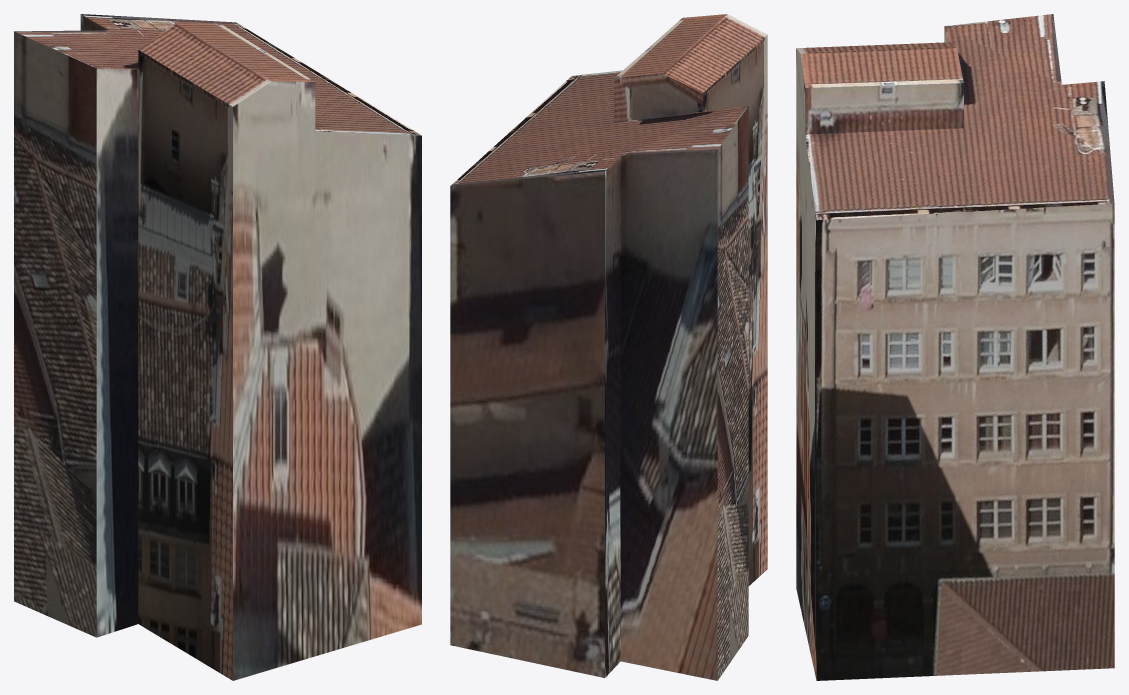
3 renders of one model, left to right at view 1: azimuth 30°, elevation 25°; view 2: azimuth 150°, elevation 25°; view 3: azimuth 270°, elevation 25°, orthographic. The views are drawn at different scales.
Visible parts, largest first — view 1: Z_UP; view 2: Z_UP; view 3: Z_UP.
Part boxes in pixels (left/top/right/bottom): Z_UP: left=14, top=14, right=421, bottom=680; Z_UP: left=450, top=14, right=767, bottom=680; Z_UP: left=796, top=14, right=1114, bottom=680.
Bounding box in the file's own units: 12.77 × 25.42 × 13.22.
2 materials, 1 textured.
